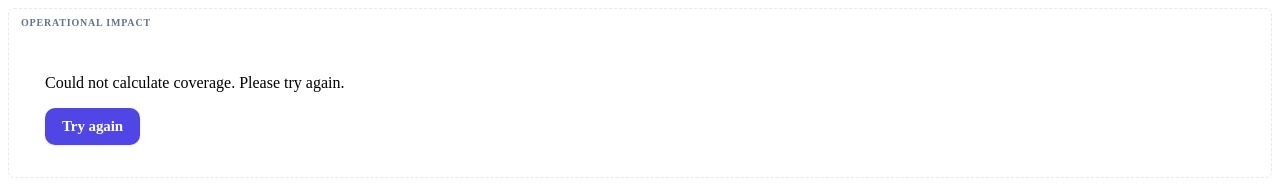
coverage impact shown to managers › shows a retryable error instead of a zero count when the query fails
The width and height of the screenshot is (1280, 195).
Expected: the message "Could not calculate coverage. Please try again. Try again" is shown, [45,74,344,145]
Click the button "Try again" at coordinates (93, 126), box [45,108,140,145]
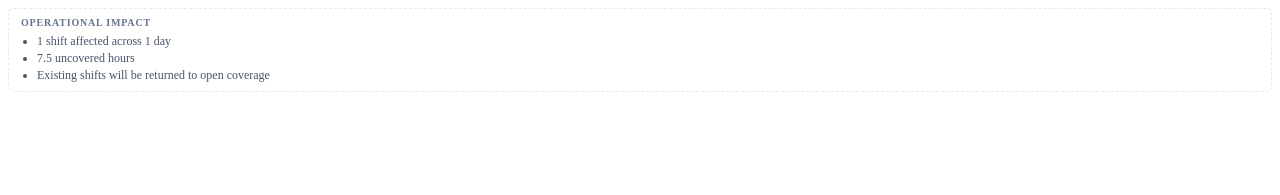
Expected: the list item "1 shift affected across 1 day" is shown, [37,34,171,48]
